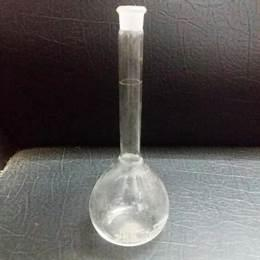Volumetric flask: (88, 7, 177, 249)
